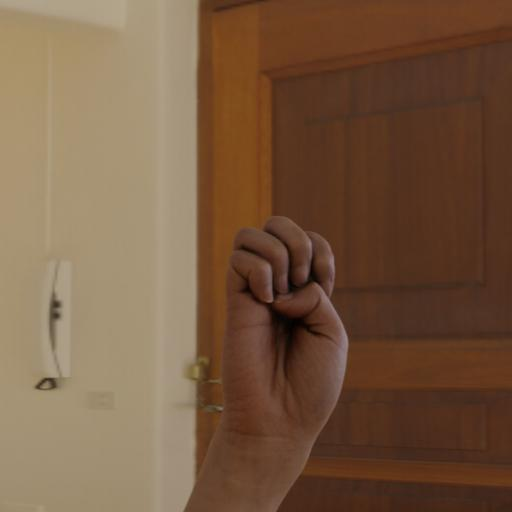E: (219, 212, 353, 448)
